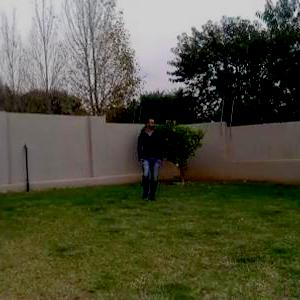follow: (139, 114, 161, 203)
